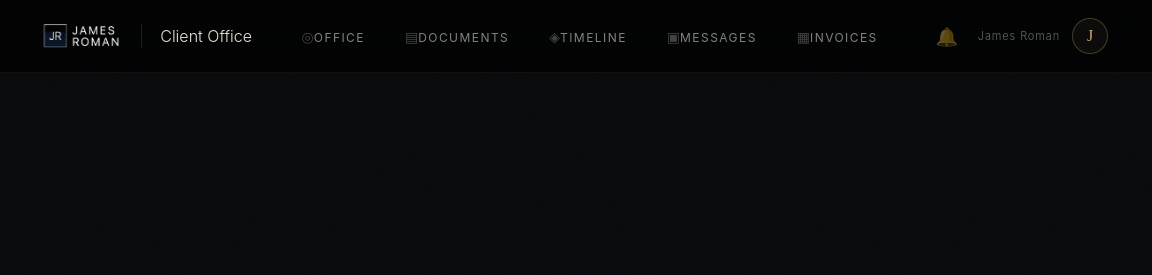
Scenario: PortalNav › shows dropdown on user button click
Click the button "James Roman J": (1043, 36) [974,14,1112,58]
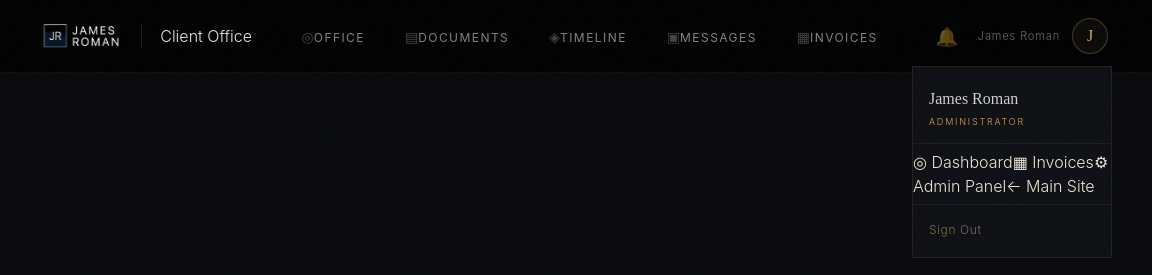
Expected: the text "Administrator" is shown, [929,116,1025,127]
Expected: the link "⚙ Admin Panel" is shown, [913,152,1108,196]
Expected: the button "Sign Out" is shown, [913,210,1111,248]
